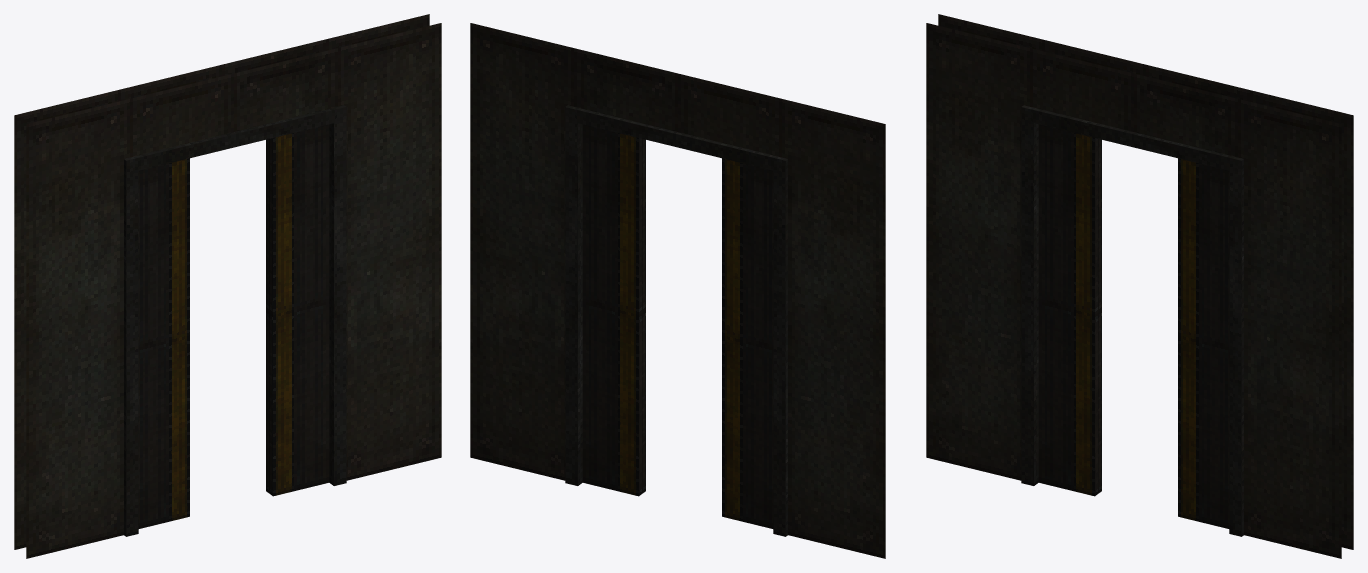
File: doorway_slim_1.glb
3 renders of one model, left to right at view 1: azimuth 30°, elevation 25°; view 2: azimuth 150°, elevation 25°; view 3: azimuth 330°, elevation 25°, orthographic.
Visible parts, largest first — view 1: doorway_slim_1, door_slim_1_a, door_slim_1_b; view 2: doorway_slim_1, door_slim_1_a, door_slim_1_b; view 3: doorway_slim_1, door_slim_1_b, door_slim_1_a.
Part boxes in pixels (bbox=[...]): doorway_slim_1: bbox=[14, 14, 441, 558]; door_slim_1_a: bbox=[266, 124, 329, 496]; door_slim_1_b: bbox=[138, 158, 189, 528]; doorway_slim_1: bbox=[470, 23, 885, 558]; door_slim_1_a: bbox=[582, 124, 645, 496]; door_slim_1_b: bbox=[722, 158, 773, 528]; doorway_slim_1: bbox=[926, 14, 1353, 558]; door_slim_1_b: bbox=[1038, 124, 1101, 496]; door_slim_1_a: bbox=[1178, 158, 1229, 528].
Size of the model in its own units: 2 by 2 by 0.14.
3 materials, 3 textured.
